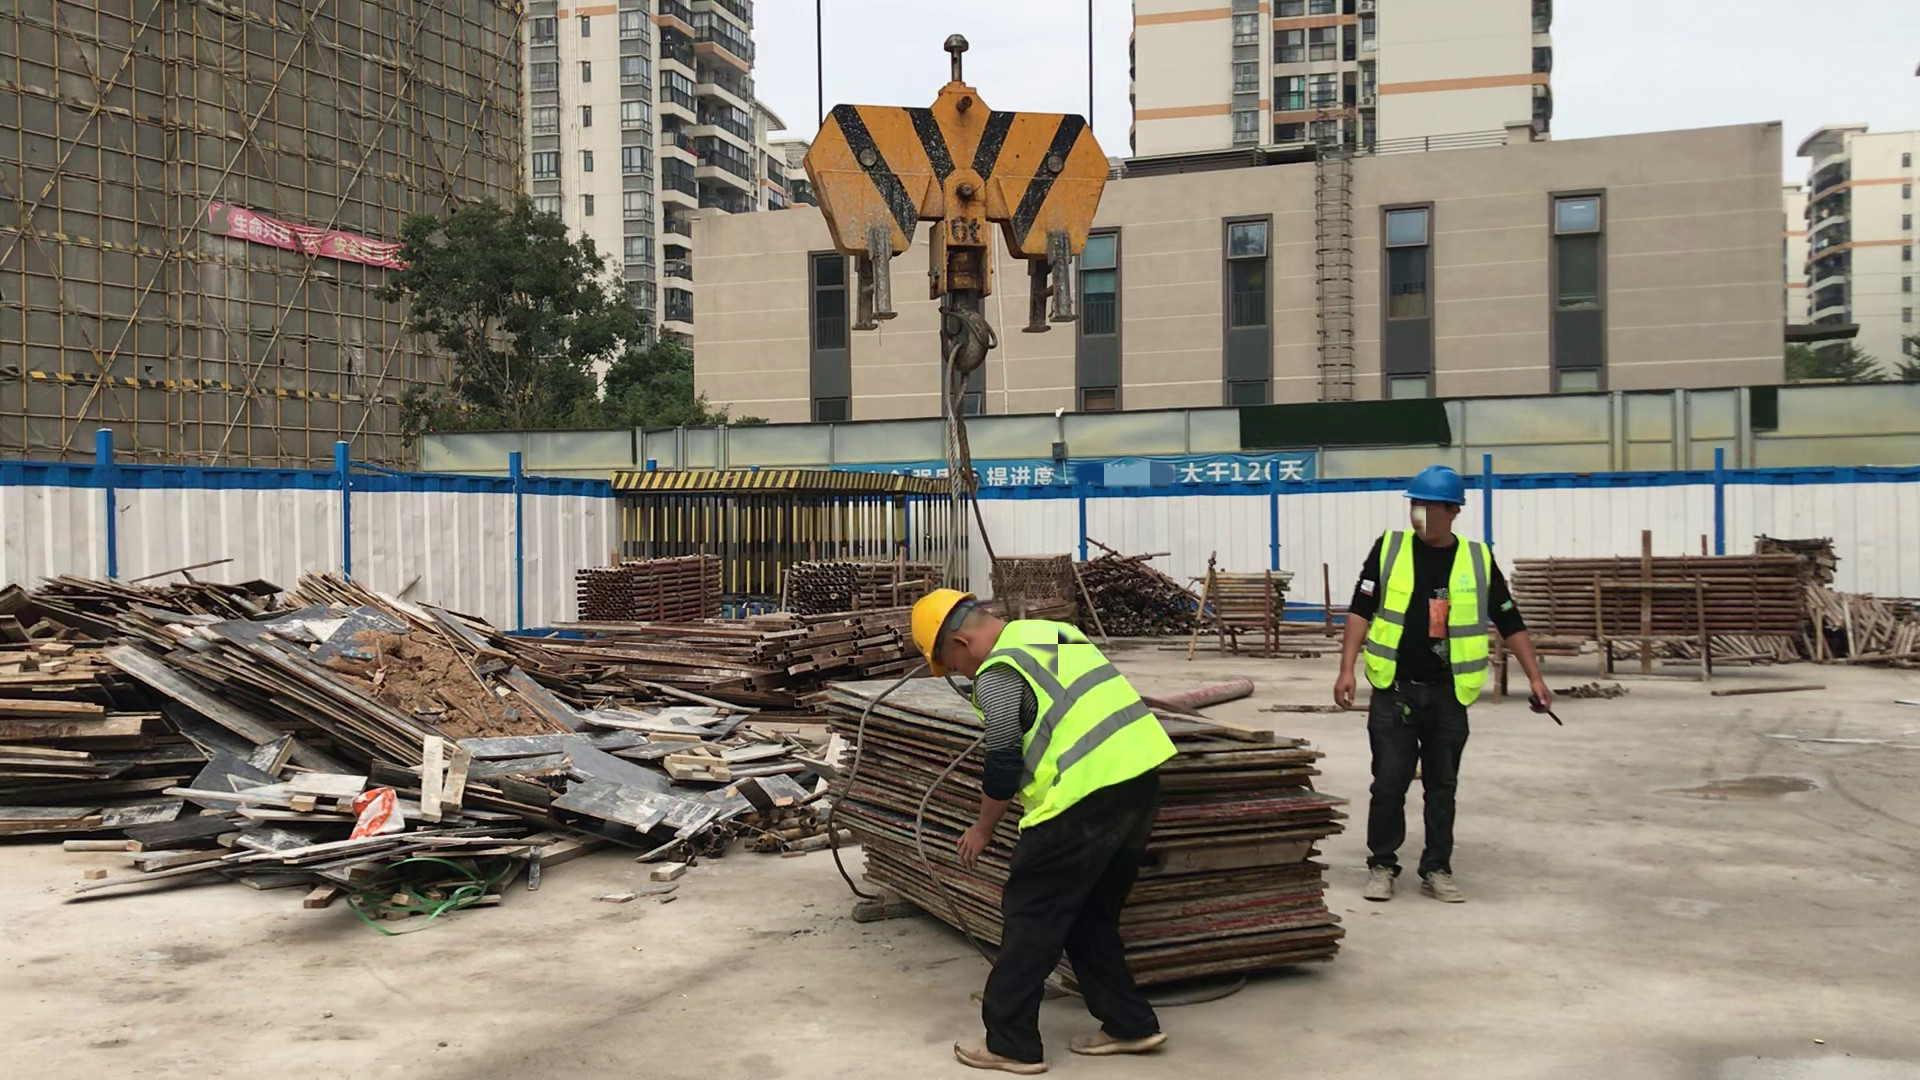board: (810, 668, 1365, 997)
helmet: (907, 587, 972, 666), (1402, 464, 1467, 506)
hook: (803, 81, 1116, 370)
person: (904, 583, 1177, 1071), (1332, 467, 1552, 905)
scaffold: (1520, 557, 1807, 635), (584, 557, 720, 618), (794, 563, 926, 607), (1204, 574, 1278, 624), (991, 561, 1066, 594)
slogan: (839, 450, 1313, 491)
vest: (972, 616, 1176, 839), (1359, 525, 1491, 705)
